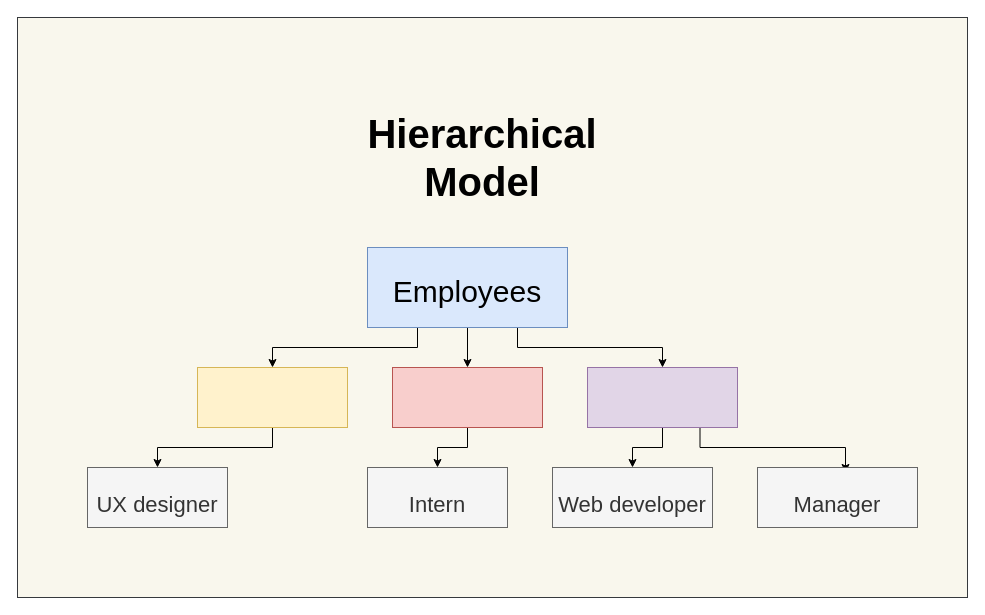
Some shapes in this 985 by 615 pixel diagram are drawn without their labels. The centre of each missing label's shape, as x and y in pixels:
"Contract" goes at point 662,397.
"Freelancers" goes at point 272,397.
"Temporary" goes at point 467,397.
